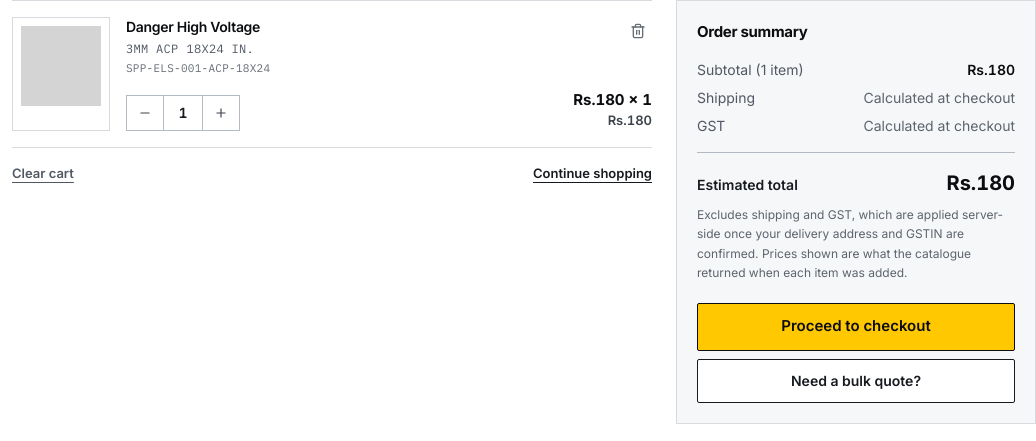
Test: CartView - quantity controls › removes a line
Click the button named "Remove Danger High Voltage 3MM ACP 18x24 from cart" at (638, 31), box x1=624 y1=17 x2=652 y2=45
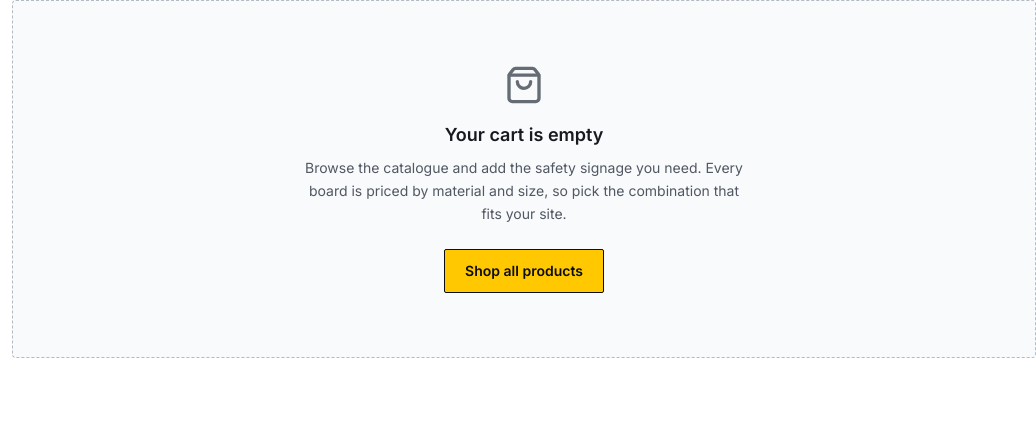
expect the text "Your cart is empty" is shown: met, box x1=445 y1=121 x2=603 y2=149
